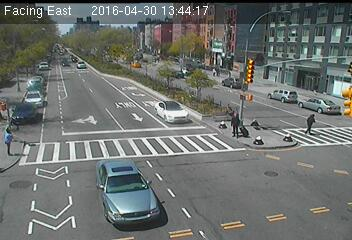neg: (193, 131, 224, 172), (131, 178, 159, 214), (253, 172, 280, 209), (78, 154, 104, 189), (32, 139, 57, 173), (58, 101, 80, 129), (159, 19, 179, 47), (321, 7, 341, 34), (14, 60, 33, 86), (285, 82, 303, 105), (104, 86, 121, 108), (218, 63, 234, 84), (187, 8, 203, 29), (55, 36, 70, 57), (79, 1, 94, 21), (187, 49, 202, 68), (99, 22, 114, 41), (124, 36, 139, 55), (86, 50, 100, 68), (254, 80, 266, 97), (30, 14, 41, 29), (136, 59, 146, 73)
pos: (301, 105, 326, 139), (225, 107, 247, 136)
